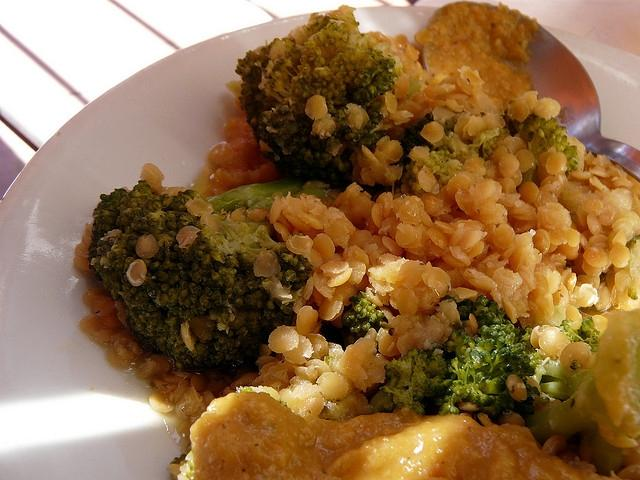broccoli: (88, 176, 314, 373), (438, 295, 540, 419), (369, 346, 456, 416), (510, 112, 580, 188), (289, 66, 349, 114), (402, 143, 462, 186), (342, 292, 386, 340)
